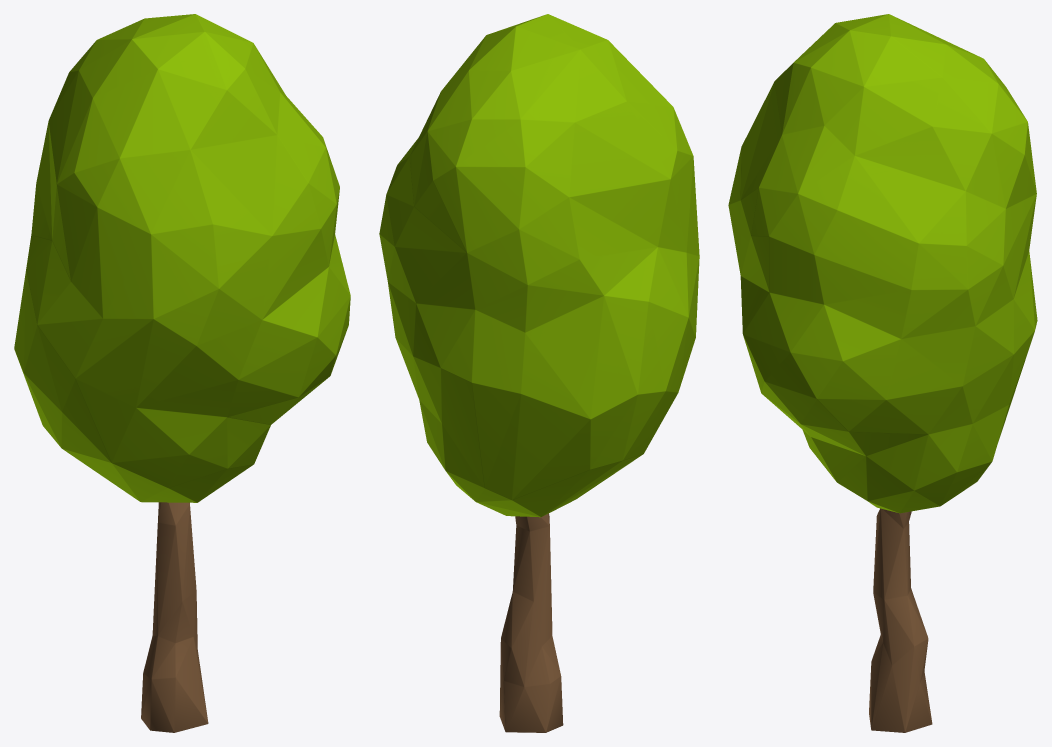
The model's file is Tree_02.glb.
3 renders of one model, left to right at view 1: azimuth 30°, elevation 25°; view 2: azimuth 150°, elevation 25°; view 3: azimuth 270°, elevation 25°, orthographic. The views are drawn at different scales.
Parts seen in each view (by area): view 1: Tree_02; view 2: Tree_02; view 3: Tree_02.
Boxes of the visible parts, <box> form: Tree_02: <box>14,14,350,732</box>; Tree_02: <box>379,14,699,732</box>; Tree_02: <box>728,14,1037,732</box>.
Bounding box in the file's own units: 0.08 × 0.186 × 0.0751.
